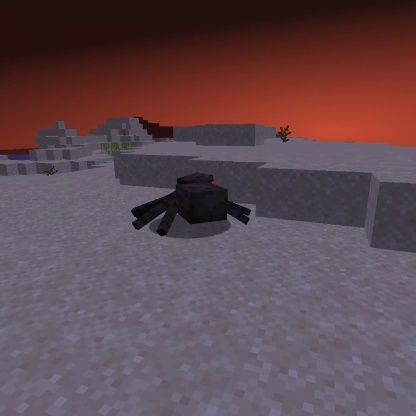spider: (126, 169, 256, 242)
